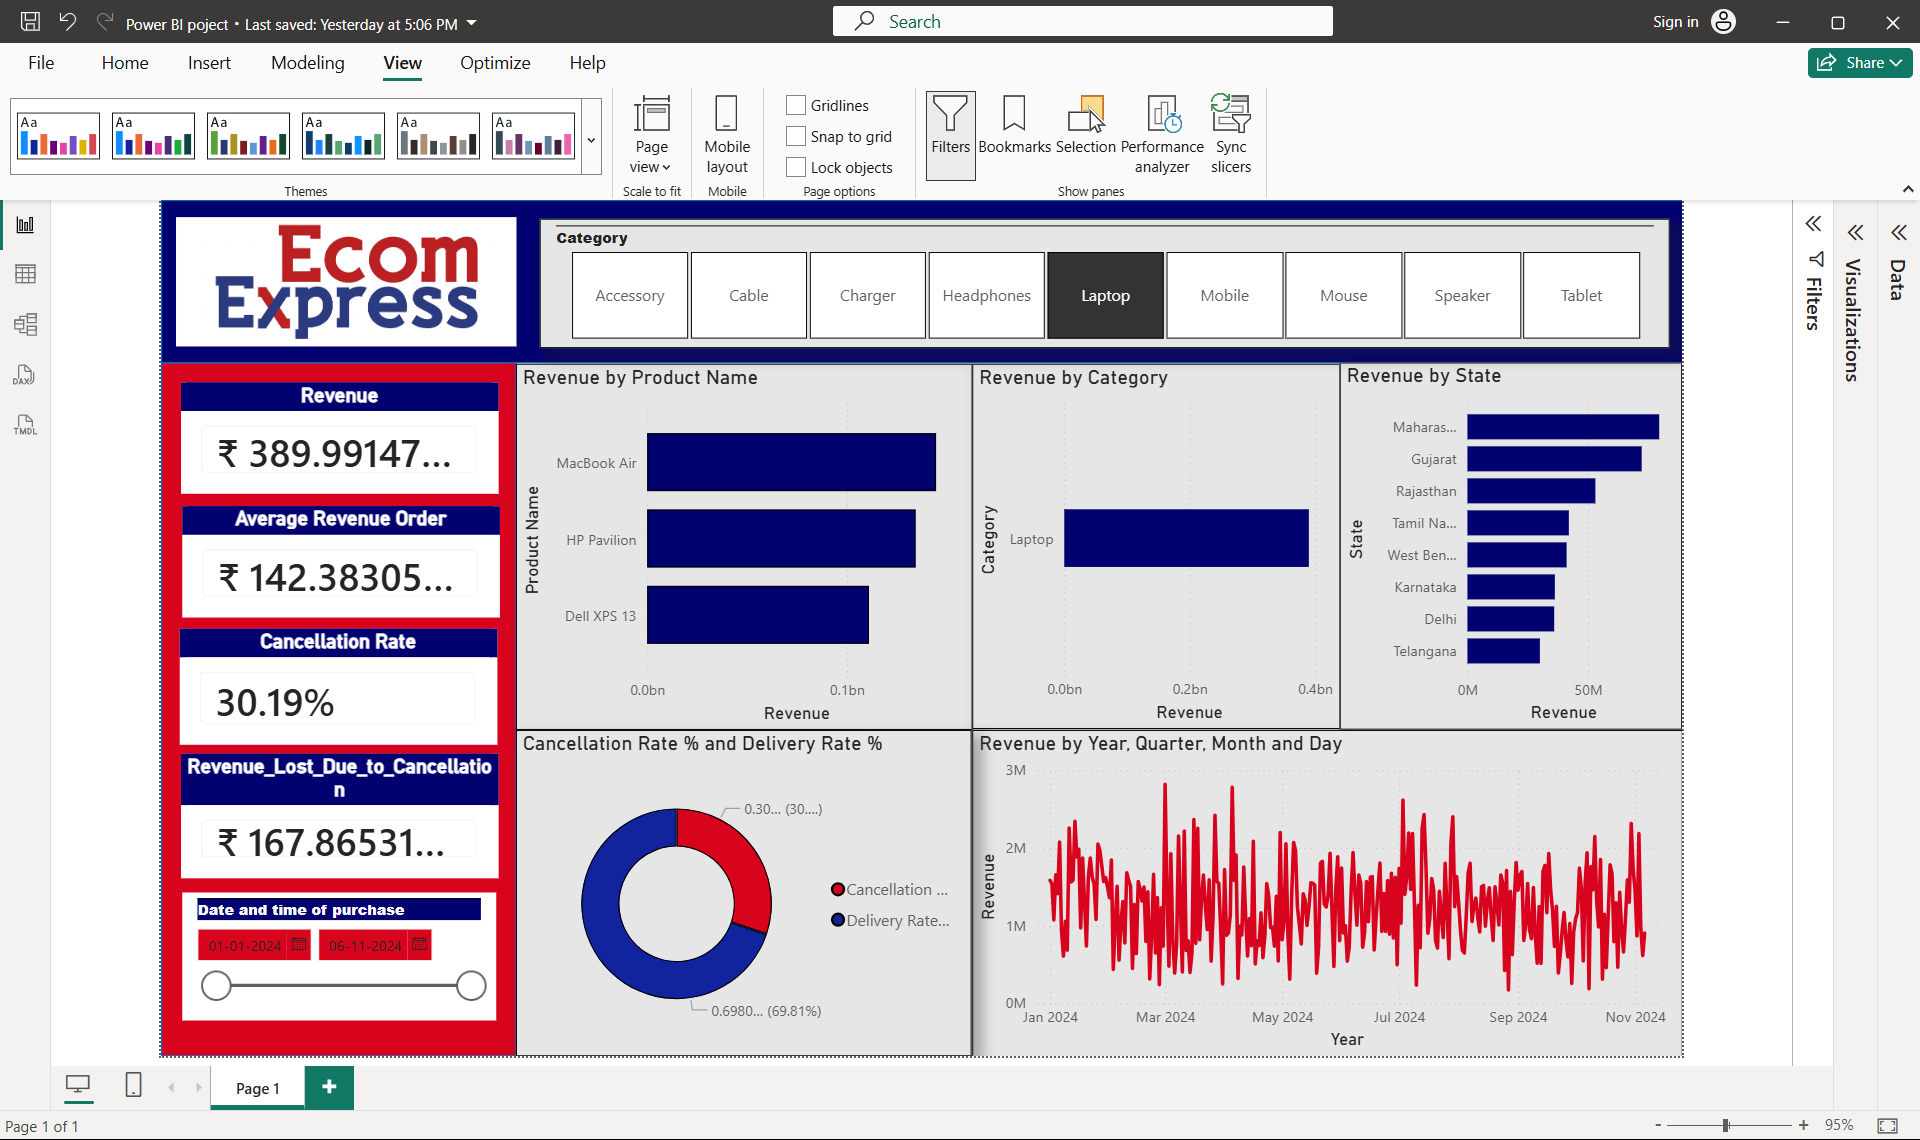

The dashboard page shown, as its layout file describes it:
{"tool":"powerbi","page":{"name":"Page 1","canvas":[1280,720],"ordinal":0},"visuals":[{"type":"shape","box":[0,0,1280.3,137.2],"z":0},{"type":"shape","box":[0,136.9,299,583.6],"z":1000},{"type":"image","box":[12.3,0,286.8,137.2],"z":2000},{"type":"barChart","fields":{"Y":["table.Revenue"],"Category":["Products.Product Name"]},"box":[298.6,137.7,383.8,308.1],"z":3000},{"type":"barChart","fields":{"Category":["Products.Category"],"Y":["table.Revenue"]},"box":[682,138.1,309.8,307.4],"z":4000},{"type":"lineChart","fields":{"Category":["Orders.Date and time of purchase.Variation.Date Hierarchy.Year","Orders.Date and time of purchase.Variation.Date Hierarchy.Quarter","Orders.Date and time of purchase.Variation.Date Hierarchy.Month","Orders.Date and time of purchase.Variation.Date Hierarchy.Day"],"Y":["table.Revenue"]},"box":[682,445.5,598,275],"z":5000},{"type":"barChart","fields":{"Category":["Customers.State"],"Y":["table.Revenue"]},"box":[991.8,136.9,288.2,308.6],"z":6000},{"type":"slicer","fields":{"Values":["Products.Category"]},"box":[318.6,15.4,950.2,109],"z":7000},{"type":"cardVisual","title":"Revenue","fields":{"Data":["table.Revenue"]},"box":[16.8,153.7,266.9,93.6],"z":8000},{"type":"cardVisual","title":"Average Revenue Order","fields":{"Data":["table.AverageRevenueOrder"]},"box":[18.2,257.1,266.9,93.6],"z":9000},{"type":"cardVisual","title":"Cancellation Rate","fields":{"Data":["table.Cancellation Rate"]},"box":[15.4,360.5,266.9,97.8],"z":10000},{"type":"cardVisual","title":"Revenue_Lost_Due_to_Cancellation","fields":{"Data":["table.Revenue_Lost"]},"box":[16.8,465.3,266.9,104.8],"z":11000},{"type":"slicer","fields":{"Values":["Orders.Date and time of purchase"]},"box":[18.2,582.7,264.1,107.6],"z":12000},{"type":"donutChart","fields":{"Y":["table.Cancellation Rate","table.Delivery Rate %"]},"box":[299,446,383,274],"z":13000}]}

Visuals, with their boxes on the page's 1280x720 design canvas (x1, y1, x2, y2). These are canvas units, not pixel positions in the 1920x1140 screenshot, which may show the page scaled, cropped or inside an application window:
shape: {"x1": 0, "y1": 0, "x2": 1280, "y2": 137}
shape: {"x1": 0, "y1": 137, "x2": 299, "y2": 720}
image: {"x1": 12, "y1": 0, "x2": 299, "y2": 137}
barChart - table.Revenue x Products.Product Name: {"x1": 299, "y1": 138, "x2": 682, "y2": 446}
barChart - Products.Category x table.Revenue: {"x1": 682, "y1": 138, "x2": 992, "y2": 446}
lineChart - Orders.Date and time of purchase.Variation.Date Hierarchy.Year x Orders.Date and time of purchase.Variation.Date Hierarchy.Quarter: {"x1": 682, "y1": 446, "x2": 1280, "y2": 720}
barChart - Customers.State x table.Revenue: {"x1": 992, "y1": 137, "x2": 1280, "y2": 446}
slicer - Products.Category: {"x1": 319, "y1": 15, "x2": 1269, "y2": 124}
"Revenue" cardVisual: {"x1": 17, "y1": 154, "x2": 284, "y2": 247}
"Average Revenue Order" cardVisual: {"x1": 18, "y1": 257, "x2": 285, "y2": 351}
"Cancellation Rate" cardVisual: {"x1": 15, "y1": 360, "x2": 282, "y2": 458}
"Revenue_Lost_Due_to_Cancellation" cardVisual: {"x1": 17, "y1": 465, "x2": 284, "y2": 570}
slicer - Orders.Date and time of purchase: {"x1": 18, "y1": 583, "x2": 282, "y2": 690}
donutChart - table.Cancellation Rate x table.Delivery Rate %: {"x1": 299, "y1": 446, "x2": 682, "y2": 720}
